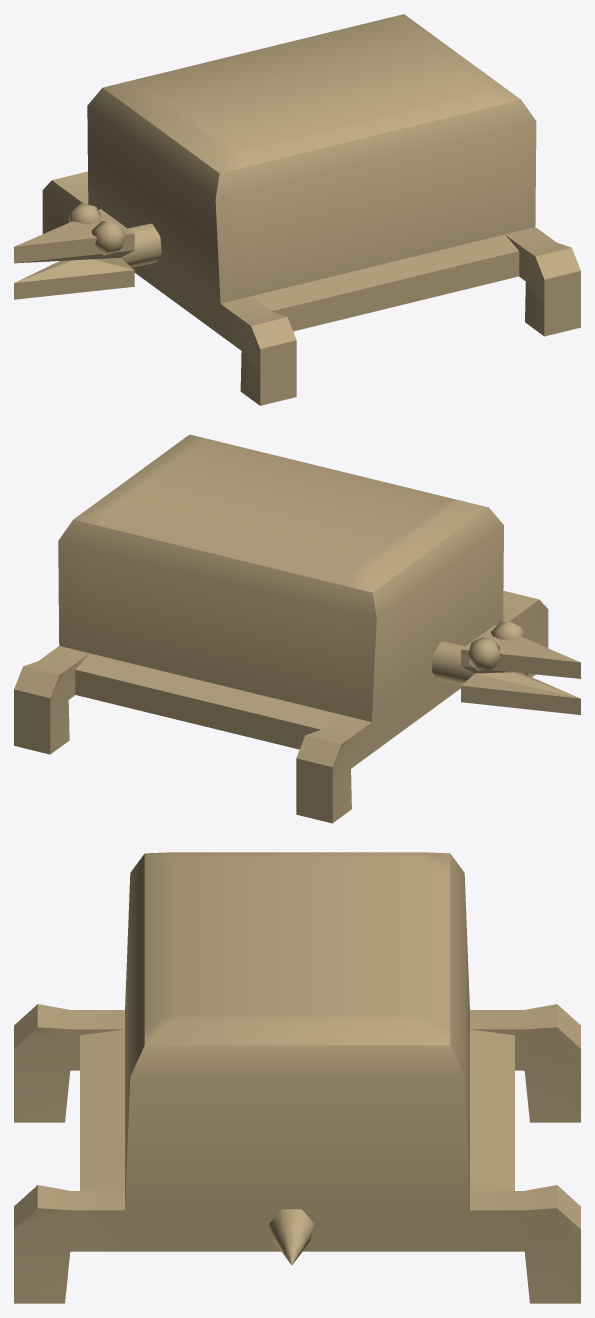
The model's file is Assets_Tortue.fbx.
3 views of the same model, one above another, from view 1: azimuth 30°, elevation 25°; view 2: azimuth 150°, elevation 25°; view 3: azimuth 270°, elevation 25° (orthographic). The views are drawn at different scales.
Parts seen in each view (by area): view 1: Carapace; view 2: Carapace; view 3: Carapace.
Part boxes in pixels (bbox=[...]): Carapace: bbox=[14, 14, 580, 405]; Carapace: bbox=[14, 434, 580, 823]; Carapace: bbox=[14, 852, 580, 1303].
Bounding box in the file's own units: 172 × 64.95 × 126.
